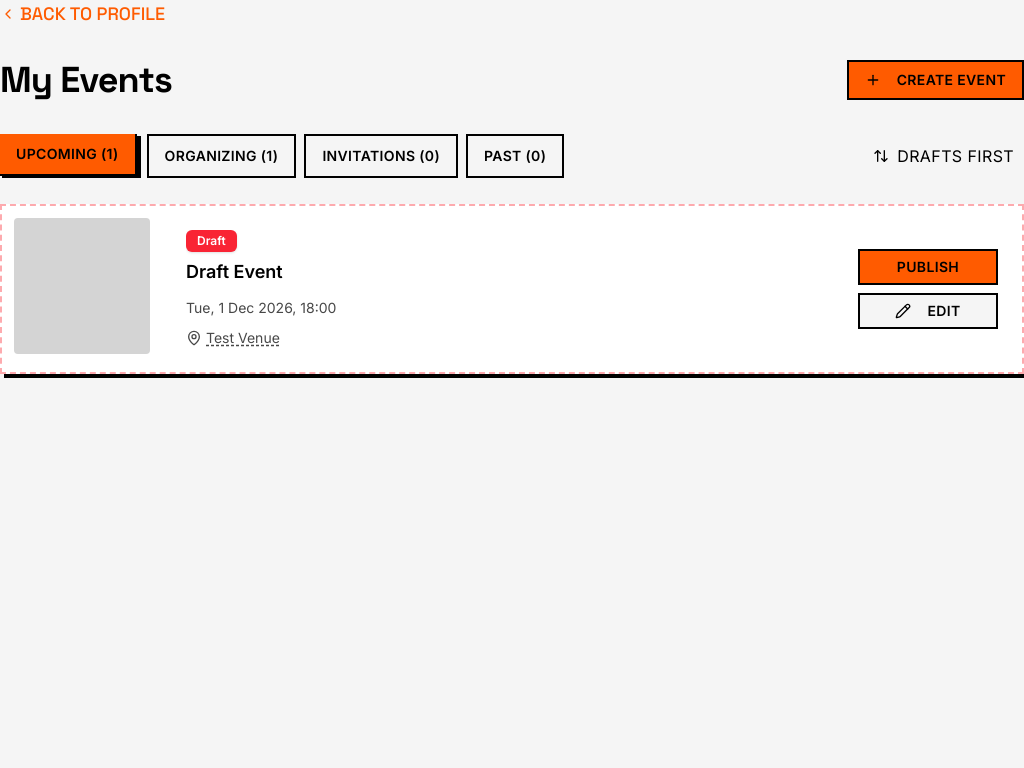
Test: My Events Page › Location Button › should open map dialog when location is clicked
This screenshot has width=1024, height=768.
Expected: the heading "My Events" is shown, [0, 60, 172, 100]
Click the button "Test Venue" at (233, 338), box [186, 328, 280, 348]
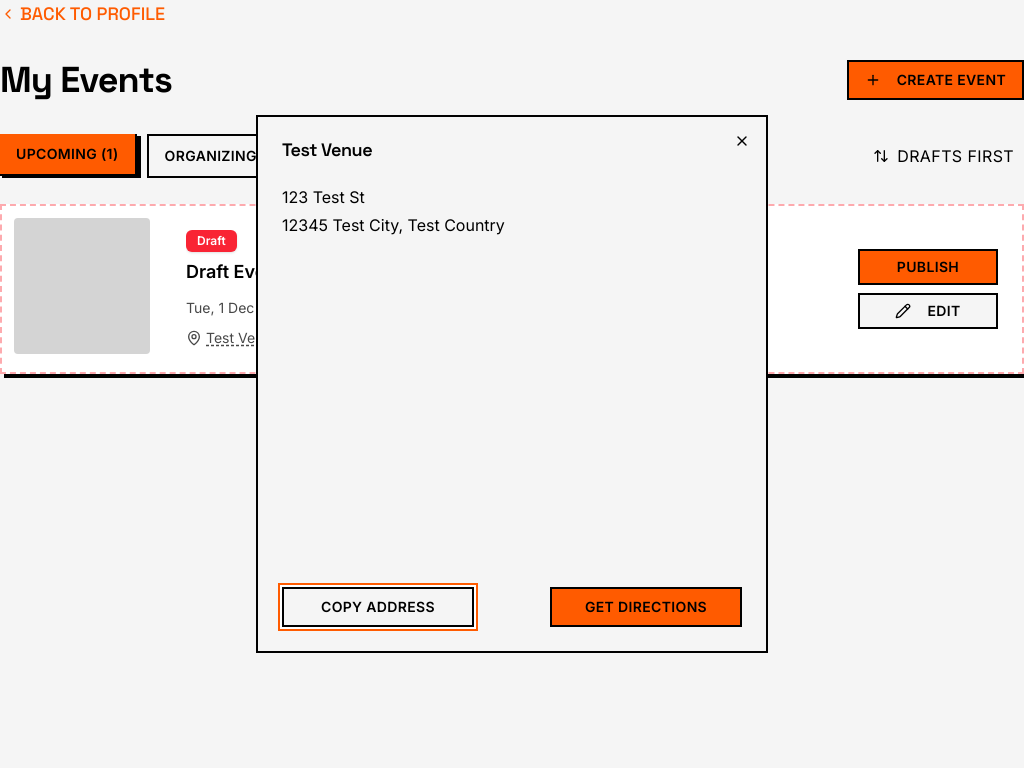
Expected: the button "Copy address" is shown, [282, 587, 474, 627]
Expected: the button "Get directions" is shown, [550, 587, 742, 627]
